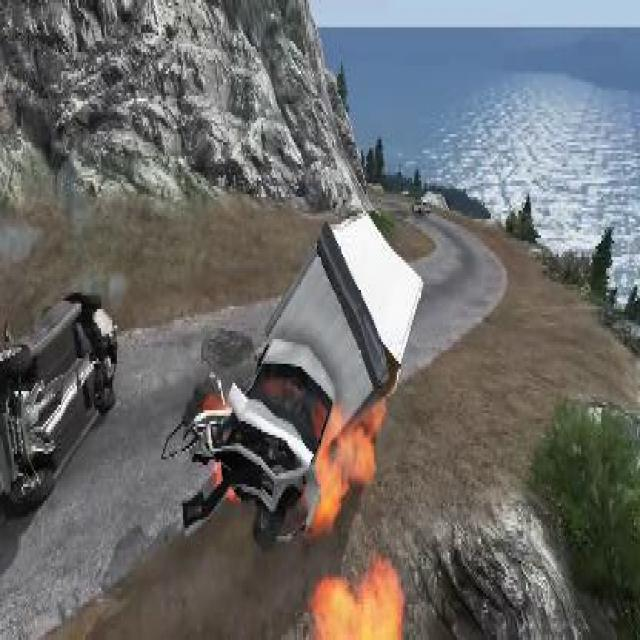accident: (192, 183, 425, 550), (5, 279, 123, 528)
